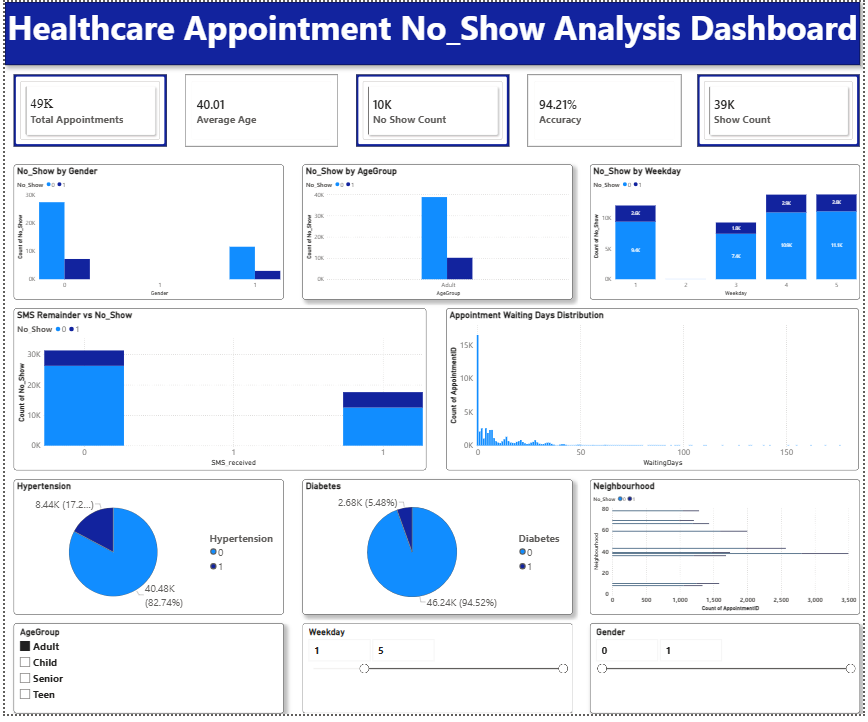

The dashboard page shown, as its layout file describes it:
{"tool":"powerbi","page":{"name":"Page 1","canvas":[2290,1900],"ordinal":0},"visuals":[{"type":"cardVisual","fields":{"Data":["Prediction.Total Appointments"]},"box":[24,192,408,192],"z":0},{"type":"cardVisual","fields":{"Data":["Prediction.No Show Count"]},"box":[936,192,408,192],"z":1000},{"type":"cardVisual","fields":{"Data":["Prediction.Show Count"]},"box":[1848,192,432,192],"z":2000},{"type":"cardVisual","fields":{"Data":["Prediction.Average Age"]},"box":[480,192,408,192],"z":3000},{"type":"cardVisual","fields":{"Data":["Prediction.Accuracy"]},"box":[1392,192,410,192],"z":4000},{"type":"clusteredColumnChart","title":"No_Show by Gender ","fields":{"Category":["Prediction.Gender"],"Y":["CountNonNull(Prediction.No_Show)"],"Series":["Prediction.No_Show"]},"box":[24,432,720,360],"z":5000},{"type":"clusteredColumnChart","title":"No_Show by AgeGroup ","fields":{"Category":["Prediction.AgeGroup"],"Y":["CountNonNull(Prediction.No_Show)"],"Series":["Prediction.No_Show"]},"box":[792,432,720,360],"z":6000},{"type":"columnChart","title":"No_Show by Weekday","fields":{"Category":["Prediction.Weekday"],"Y":["CountNonNull(Prediction.No_Show)"],"Series":["Prediction.No_Show"]},"box":[1560,432,720,360],"z":7000},{"type":"columnChart","title":"SMS Remainder vs No_Show","fields":{"Category":["Prediction.SMS_received"],"Y":["CountNonNull(Prediction.No_Show)"],"Series":["Prediction.No_Show"]},"box":[24,816,1100,432],"z":8000},{"type":"columnChart","title":"Appointment Waiting Days Distribution","fields":{"Category":["Prediction.WaitingDays"],"Y":["CountNonNull(Prediction.AppointmentID)"]},"box":[1176,816,1100,432],"z":9000},{"type":"pieChart","title":"Hypertension","fields":{"Category":["Prediction.Hypertension"],"Y":["CountNonNull(Prediction.AppointmentID)"]},"box":[24,1272,720,360],"z":10000},{"type":"pieChart","title":" Diabetes","fields":{"Category":["Prediction.Diabetes"],"Y":["CountNonNull(Prediction.AppointmentID)"]},"box":[792,1272,720,360],"z":11000},{"type":"barChart","title":"Neighbourhood","fields":{"Category":["Prediction.Neighbourhood"],"Y":["CountNonNull(Prediction.AppointmentID)"],"Series":["Prediction.No_Show"]},"box":[1560,1272,720,360],"z":12000},{"type":"slicer","fields":{"Values":["Prediction.Gender"]},"box":[1560,1656,720,240],"z":13000},{"type":"slicer","fields":{"Values":["Prediction.AgeGroup"]},"box":[24,1656,720,240],"z":14000},{"type":"slicer","fields":{"Values":["Prediction.Weekday"]},"box":[792,1656,720,240],"z":15000},{"type":"textbox","box":[0,0,2280,168],"z":16000}]}

Visuals, with their boxes in screenshot pixels (x1, y1, x2, y2), scaled from the page's 2290x1900 canvas onto the 868x722 screenshot:
cardVisual - Prediction.Total Appointments: (x1=9, y1=73, x2=164, y2=146)
cardVisual - Prediction.No Show Count: (x1=355, y1=73, x2=509, y2=146)
cardVisual - Prediction.Show Count: (x1=700, y1=73, x2=864, y2=146)
cardVisual - Prediction.Average Age: (x1=182, y1=73, x2=337, y2=146)
cardVisual - Prediction.Accuracy: (x1=528, y1=73, x2=683, y2=146)
"No_Show by Gender " clusteredColumnChart: (x1=9, y1=164, x2=282, y2=301)
"No_Show by AgeGroup " clusteredColumnChart: (x1=300, y1=164, x2=573, y2=301)
"No_Show by Weekday" columnChart: (x1=591, y1=164, x2=864, y2=301)
"SMS Remainder vs No_Show" columnChart: (x1=9, y1=310, x2=426, y2=474)
"Appointment Waiting Days Distribution" columnChart: (x1=446, y1=310, x2=863, y2=474)
"Hypertension" pieChart: (x1=9, y1=483, x2=282, y2=620)
" Diabetes" pieChart: (x1=300, y1=483, x2=573, y2=620)
"Neighbourhood" barChart: (x1=591, y1=483, x2=864, y2=620)
slicer - Prediction.Gender: (x1=591, y1=629, x2=864, y2=720)
slicer - Prediction.AgeGroup: (x1=9, y1=629, x2=282, y2=720)
slicer - Prediction.Weekday: (x1=300, y1=629, x2=573, y2=720)
textbox: (x1=0, y1=0, x2=864, y2=64)
